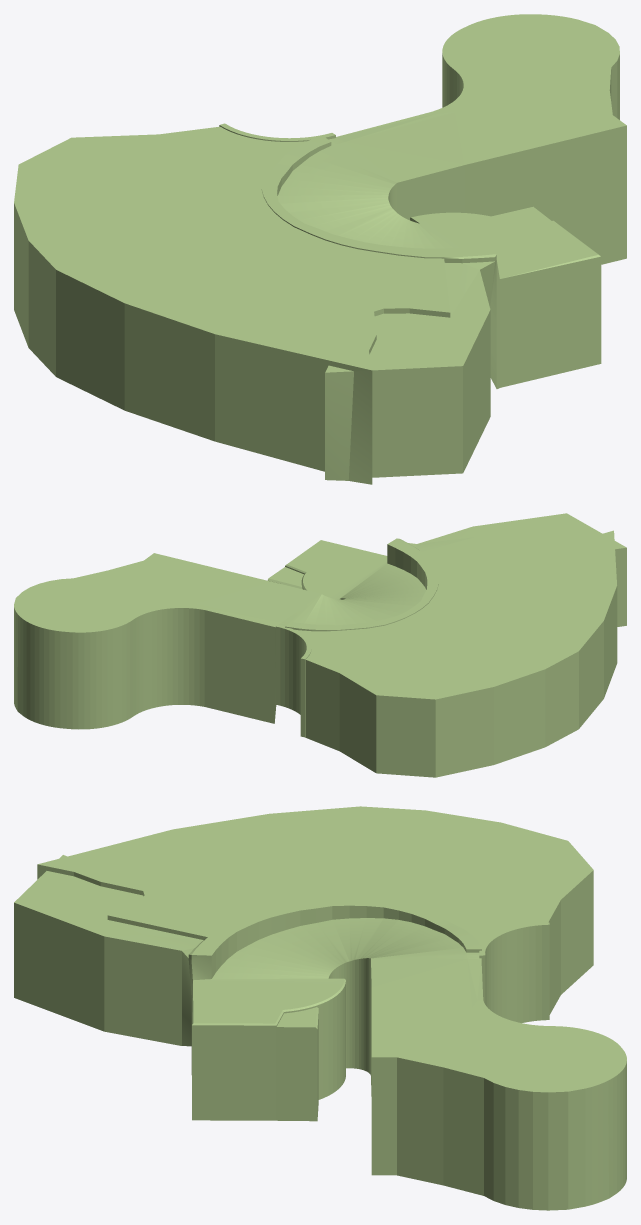
File: Platform_StartingArea_02.fbx
The picture shows the model from 3 angles, top to bottom: view 1: azimuth 30°, elevation 25°; view 2: azimuth 150°, elevation 25°; view 3: azimuth 270°, elevation 25°; orthographic projection. The views are drawn at different scales.
Parts seen in each view (by area): view 1: Platform_StartingArea_02; view 2: Platform_StartingArea_02; view 3: Platform_StartingArea_02.
Boxes of the visible parts, x1=… form: Platform_StartingArea_02: x1=14, y1=14, x2=626, y2=484; Platform_StartingArea_02: x1=14, y1=513, x2=626, y2=777; Platform_StartingArea_02: x1=14, y1=806, x2=626, y2=1210.
Bounding box in the file's own units: 114 × 22.56 × 103.
